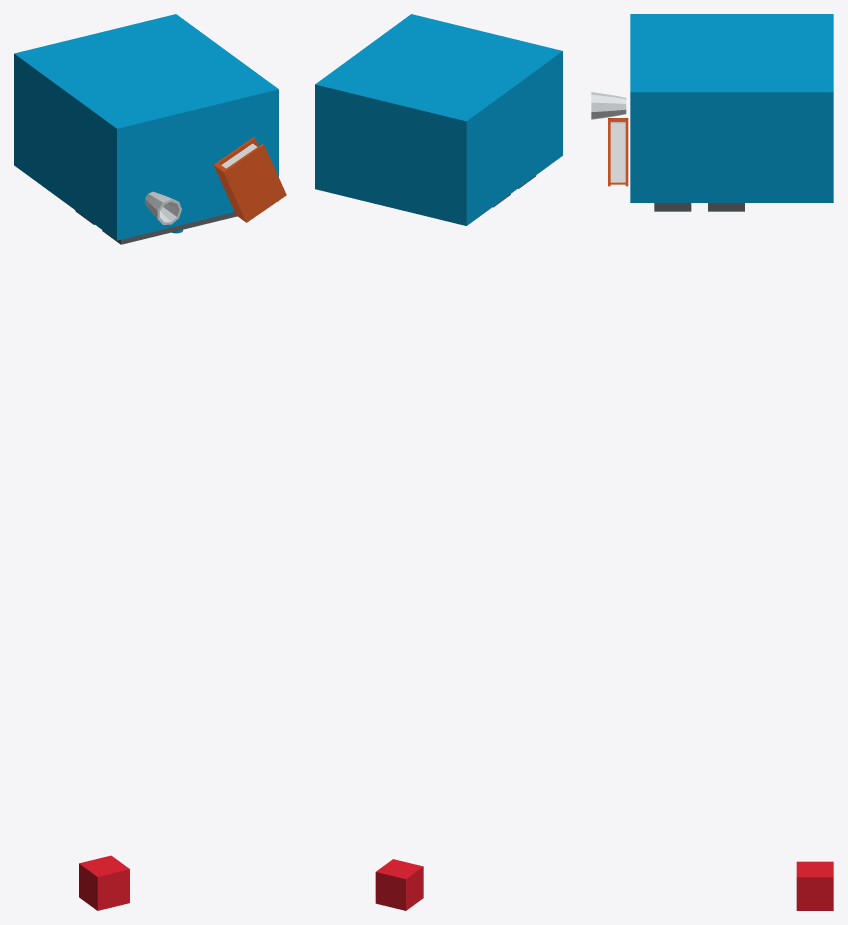
The model's file is tinker.obj.
The picture shows the model from 3 angles, left to right: view 1: azimuth 30°, elevation 25°; view 2: azimuth 150°, elevation 25°; view 3: azimuth 270°, elevation 25°; orthographic projection. The views are drawn at different scales.
Visible parts, largest first — view 1: group_0_40919, group_0_14900002, group_0_15277357, group_0_14541540, group_0_6383466; view 2: group_0_40919, group_0_15277357; view 3: group_0_40919, group_0_15277357, group_0_16448250, group_0_14541540, group_0_6383466, group_0_14900002.
Boxes of the visible parts, x1=… form: group_0_40919: x1=14, y1=14, x2=278, y2=240; group_0_14900002: x1=214, y1=137, x2=286, y2=222; group_0_15277357: x1=79, y1=855, x2=129, y2=910; group_0_14541540: x1=145, y1=191, x2=181, y2=224; group_0_6383466: x1=75, y1=210, x2=237, y2=244; group_0_40919: x1=315, y1=14, x2=562, y2=225; group_0_15277357: x1=375, y1=859, x2=423, y2=910; group_0_40919: x1=630, y1=14, x2=833, y2=202; group_0_15277357: x1=796, y1=861, x2=833, y2=910; group_0_16448250: x1=610, y1=122, x2=625, y2=182; group_0_14541540: x1=591, y1=92, x2=626, y2=119; group_0_6383466: x1=654, y1=203, x2=744, y2=211; group_0_14900002: x1=608, y1=118, x2=628, y2=186.
Size of the model in its own units: 100 by 507 by 131.
